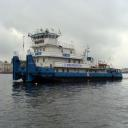tugboat: (13, 28, 124, 86)
